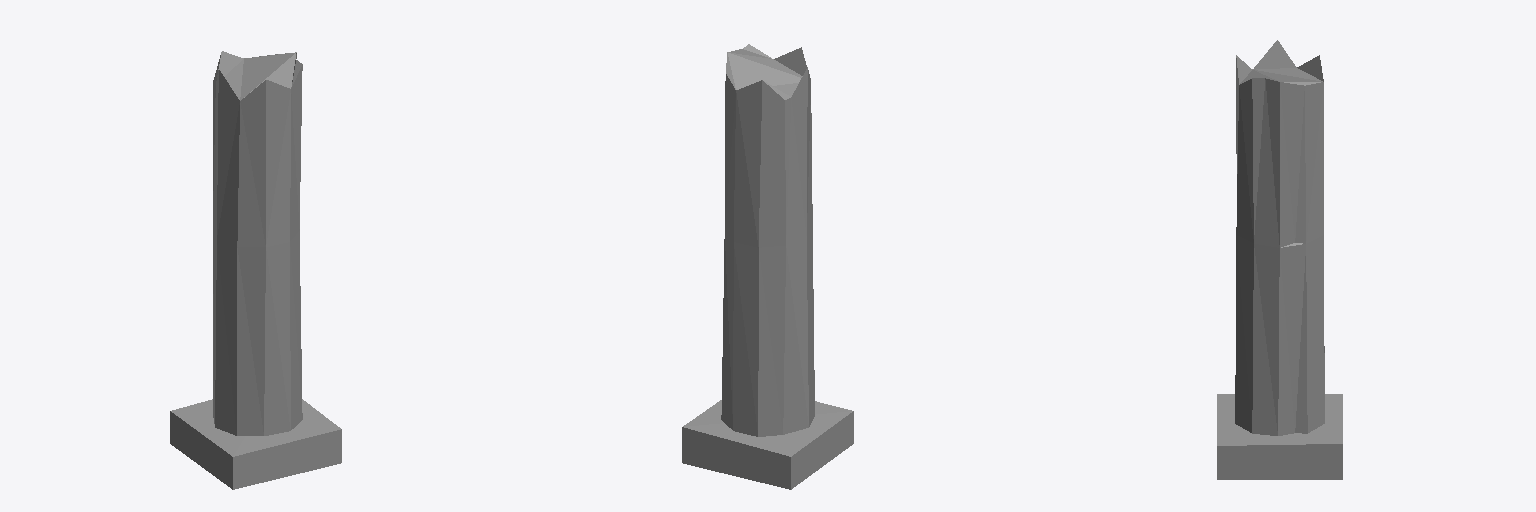
The model's file is ruinsPillar.obj.
3 views of the same model, side by side, from view 1: azimuth 30°, elevation 25°; view 2: azimuth 150°, elevation 25°; view 3: azimuth 270°, elevation 25° (orthographic).
Parts seen in each view (by area): view 1: Untitled.001_RuinPillarOne100; view 2: Untitled.001_RuinPillarOne100; view 3: Untitled.001_RuinPillarOne100.
Part boxes in pixels (x1,y1,x2,y2): Untitled.001_RuinPillarOne100: (170,51,341,489); Untitled.001_RuinPillarOne100: (682,44,853,489); Untitled.001_RuinPillarOne100: (1217,40,1342,479).
Size of the model in its own units: 247 by 858 by 247.